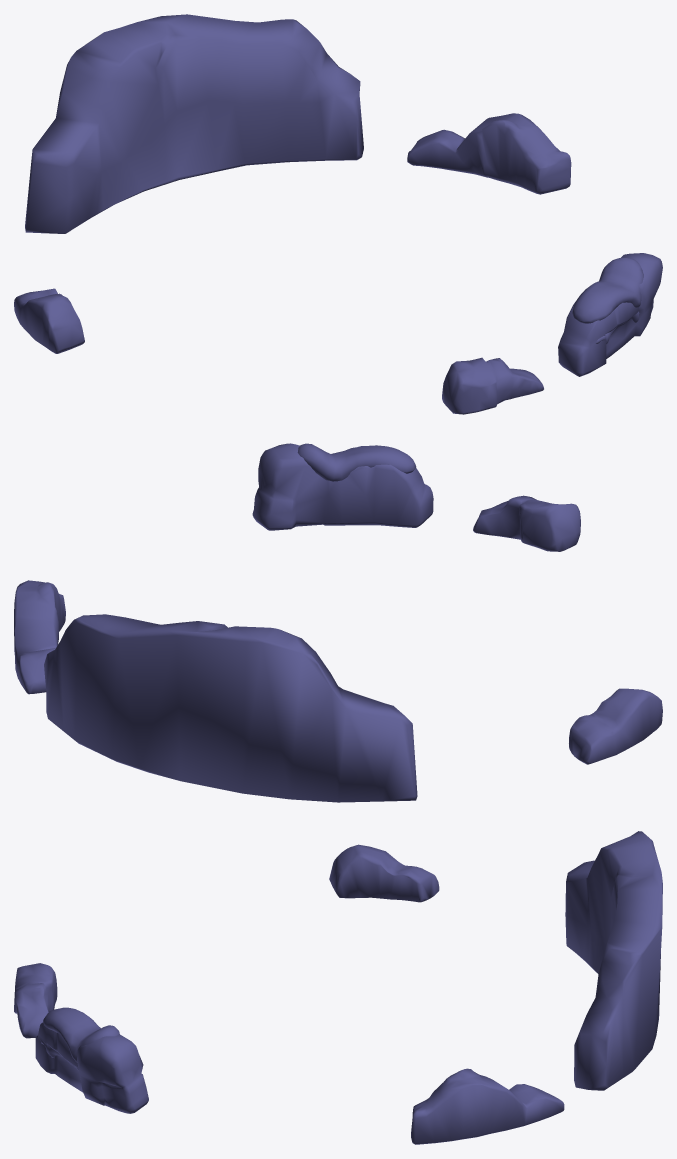
File: RuinsWall.fbx
The picture shows the model from 3 angles, top to bottom: view 1: azimuth 30°, elevation 25°; view 2: azimuth 150°, elevation 25°; view 3: azimuth 270°, elevation 25°; orthographic projection. The views are drawn at different scales.
Visible parts, largest first — view 1: RuinsWall_1, RuinsWall_2, RuinsWall_5, RuinsWall_4, RuinsWall_3; view 2: RuinsWall_1, RuinsWall_5, RuinsWall_3, RuinsWall_2, RuinsWall_4; view 3: RuinsWall_1, RuinsWall_5, RuinsWall_2, RuinsWall_3, RuinsWall_4.
Boxes of the visible parts, left/top/right/bottom form: RuinsWall_1: left=25, top=14, right=363, bottom=233; RuinsWall_2: left=407, top=113, right=571, bottom=194; RuinsWall_5: left=558, top=253, right=662, bottom=376; RuinsWall_4: left=442, top=357, right=543, bottom=414; RuinsWall_3: left=14, top=288, right=84, bottom=353; RuinsWall_1: left=44, top=614, right=417, bottom=802; RuinsWall_5: left=252, top=443, right=433, bottom=530; RuinsWall_3: left=569, top=688, right=662, bottom=764; RuinsWall_2: left=14, top=580, right=65, bottom=694; RuinsWall_4: left=473, top=495, right=580, bottom=551; RuinsWall_1: left=565, top=831, right=662, bottom=1090; RuinsWall_5: left=35, top=1007, right=148, bottom=1113; RuinsWall_2: left=411, top=1068, right=564, bottom=1144; RuinsWall_3: left=329, top=844, right=439, bottom=902; RuinsWall_4: left=14, top=963, right=57, bottom=1038.
Bounding box in the file's own units: 1929 × 503 × 2001.
